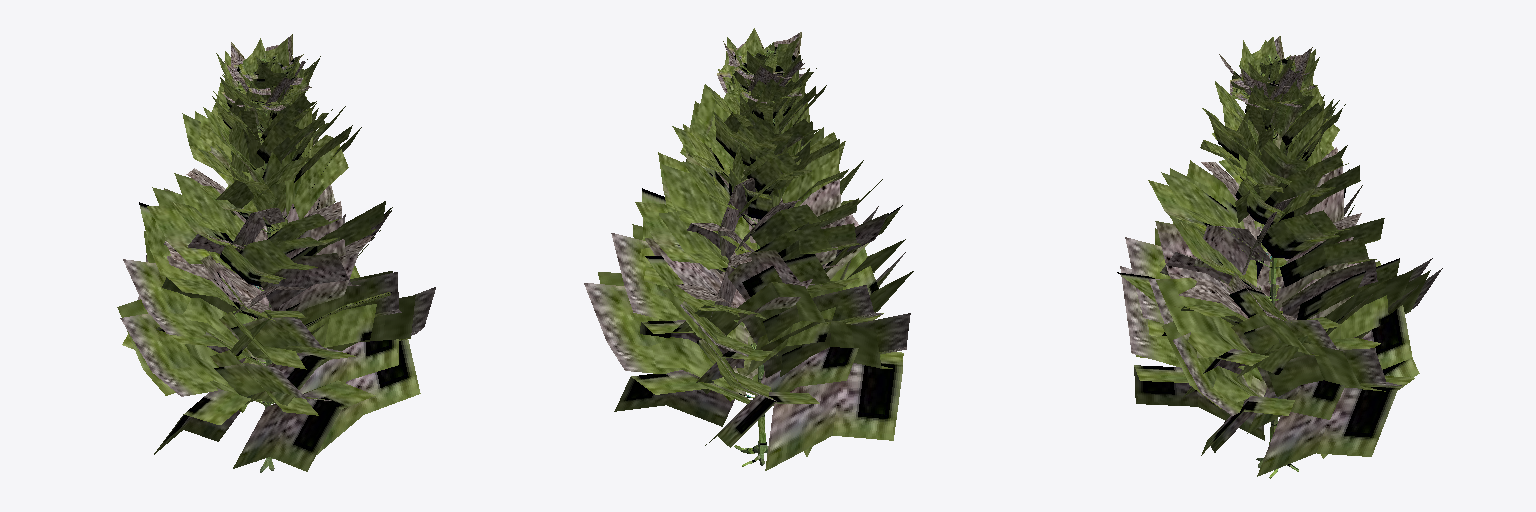
3 renders of one model, left to right at view 1: azimuth 30°, elevation 25°; view 2: azimuth 150°, elevation 25°; view 3: azimuth 270°, elevation 25°, orthographic.
Visible parts, largest first — view 1: Arbol6; view 2: Arbol6; view 3: Arbol6.
Part boxes in pixels (bbox=[...]): Arbol6: bbox=[117, 34, 435, 472]; Arbol6: bbox=[584, 28, 913, 470]; Arbol6: bbox=[1117, 36, 1442, 478].
Bounding box in the file's own units: 8.88 × 12.76 × 9.02.
1 materials, 1 textured.